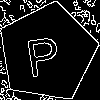P: (22, 27, 63, 78)
